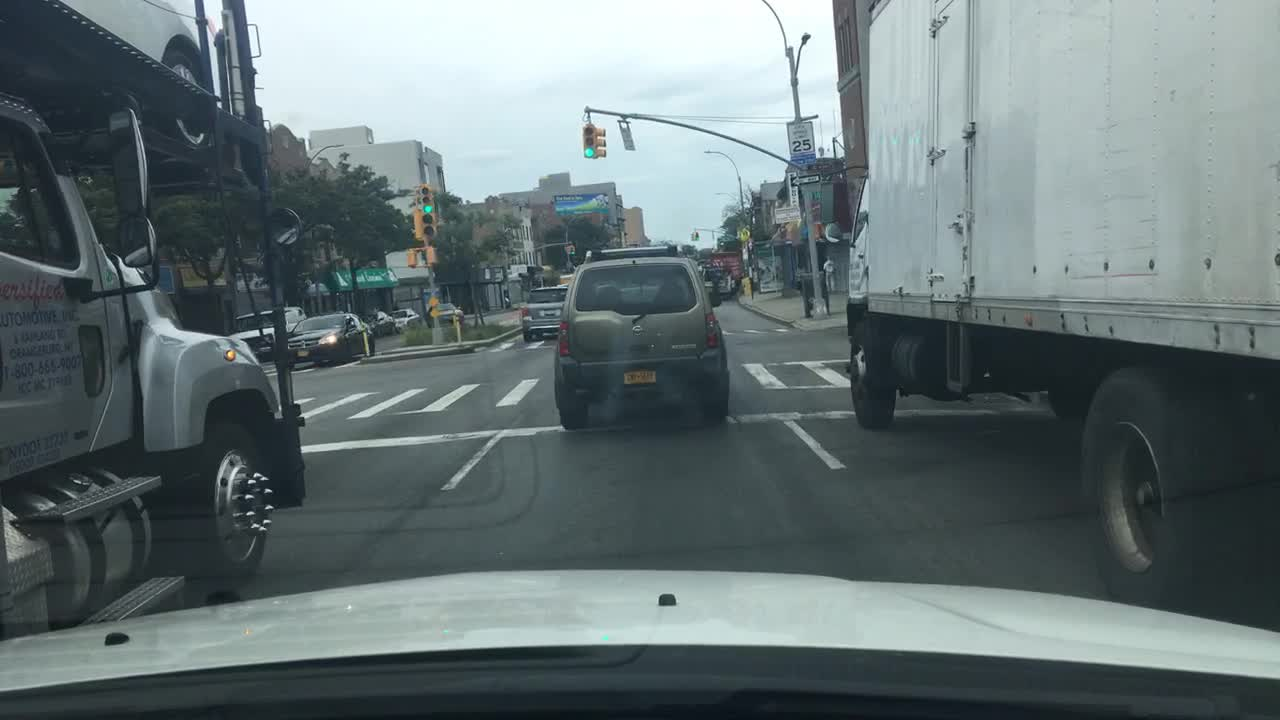car: (553, 247, 736, 432), (285, 311, 377, 366), (226, 302, 307, 361), (514, 285, 576, 342), (696, 261, 738, 300), (351, 307, 399, 339), (386, 306, 421, 335), (432, 302, 466, 324), (556, 271, 578, 289)
traffic light: (404, 245, 436, 271), (591, 124, 612, 159), (413, 205, 434, 240), (417, 187, 436, 216), (579, 121, 593, 157), (560, 242, 578, 257), (686, 227, 699, 241)
traffic sign: (785, 119, 816, 159), (614, 117, 640, 154), (772, 201, 798, 220), (803, 199, 827, 218), (426, 297, 444, 319), (791, 176, 822, 187), (734, 226, 752, 241)
truck: (833, 0, 1277, 628), (1, 1, 307, 652)
